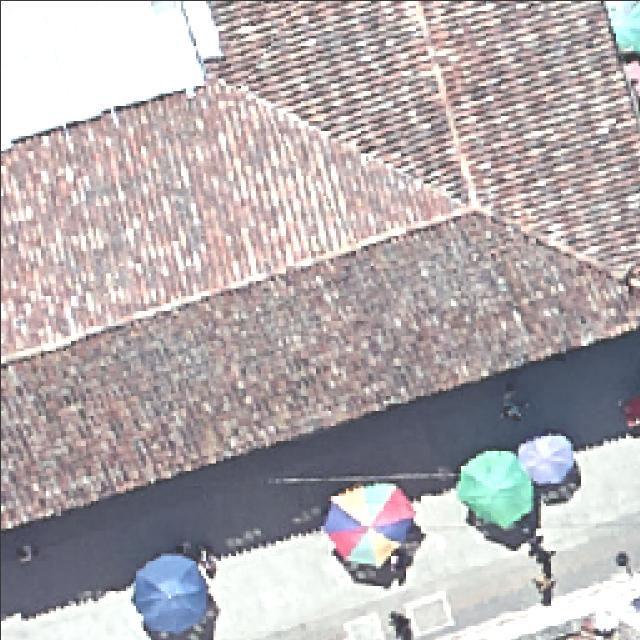vendedor_ambulante: (324, 480, 417, 566), (132, 551, 210, 632), (456, 450, 534, 528), (518, 433, 576, 486)
